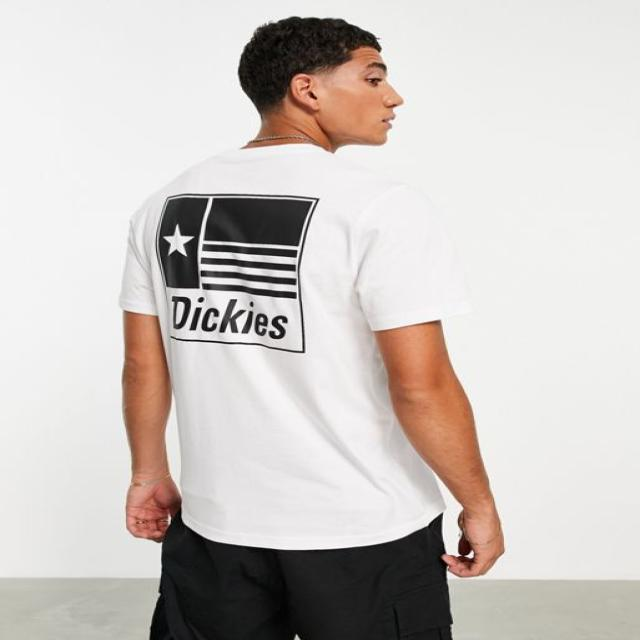tshirt: (119, 143, 469, 550)
